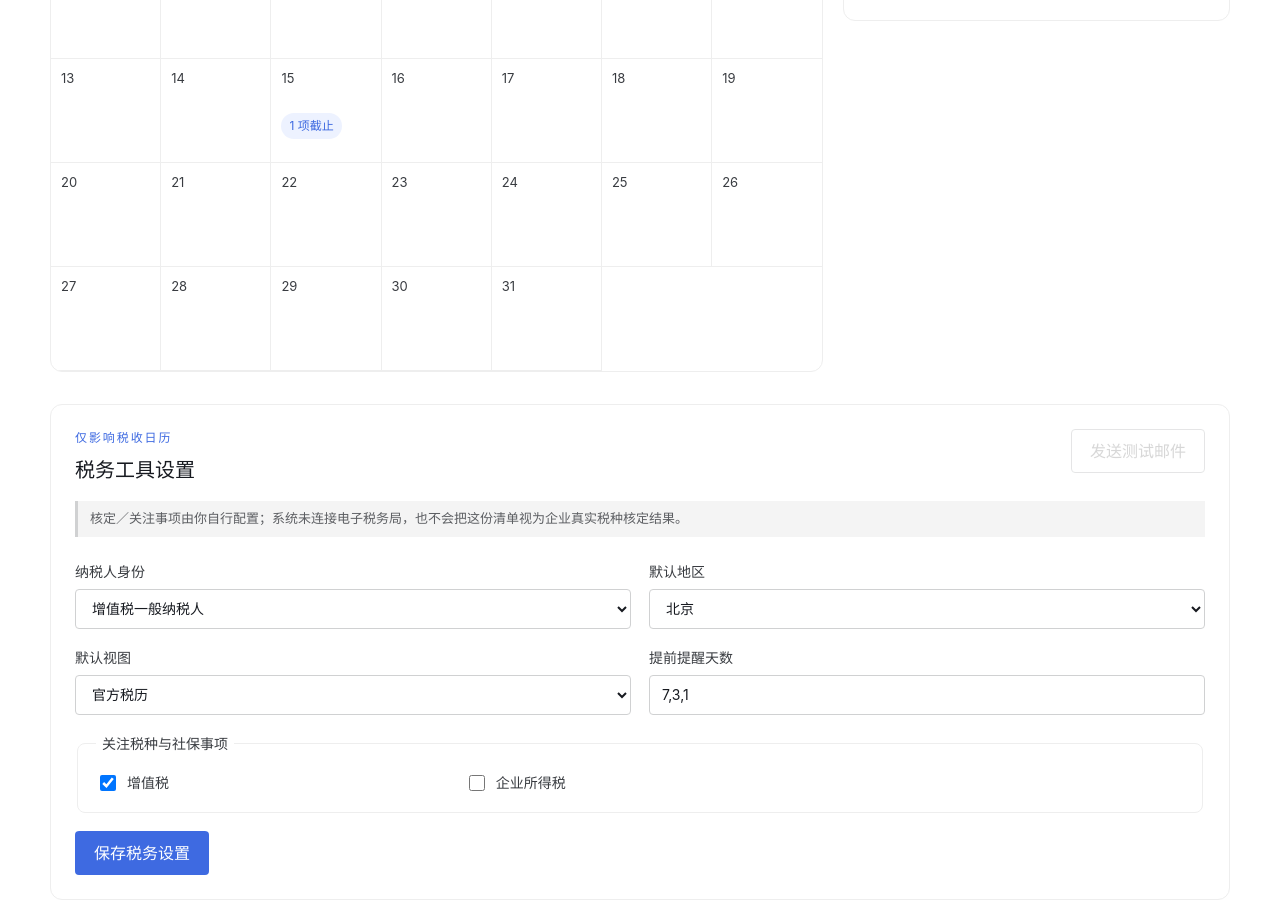
Test case: filters blank reminder tokens and adopts the normalized server value
(page scrolled)
Replace the text in the field labelled "提前提醒天数" with "7, ,3,". click: (927,694)
box: [649,674,1205,714]
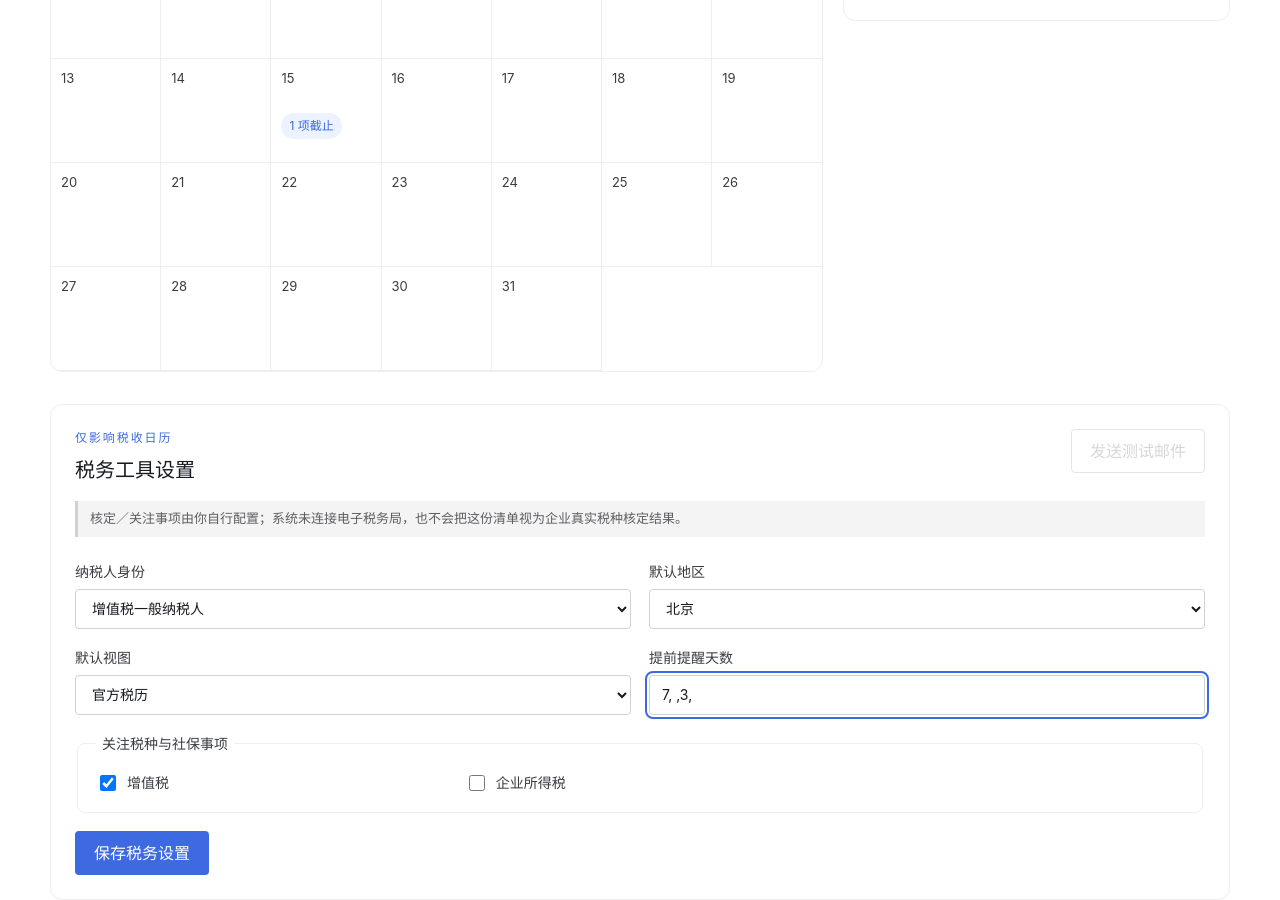
Click the button "保存税务设置". click: (142,852)
box: [75,830,209,874]
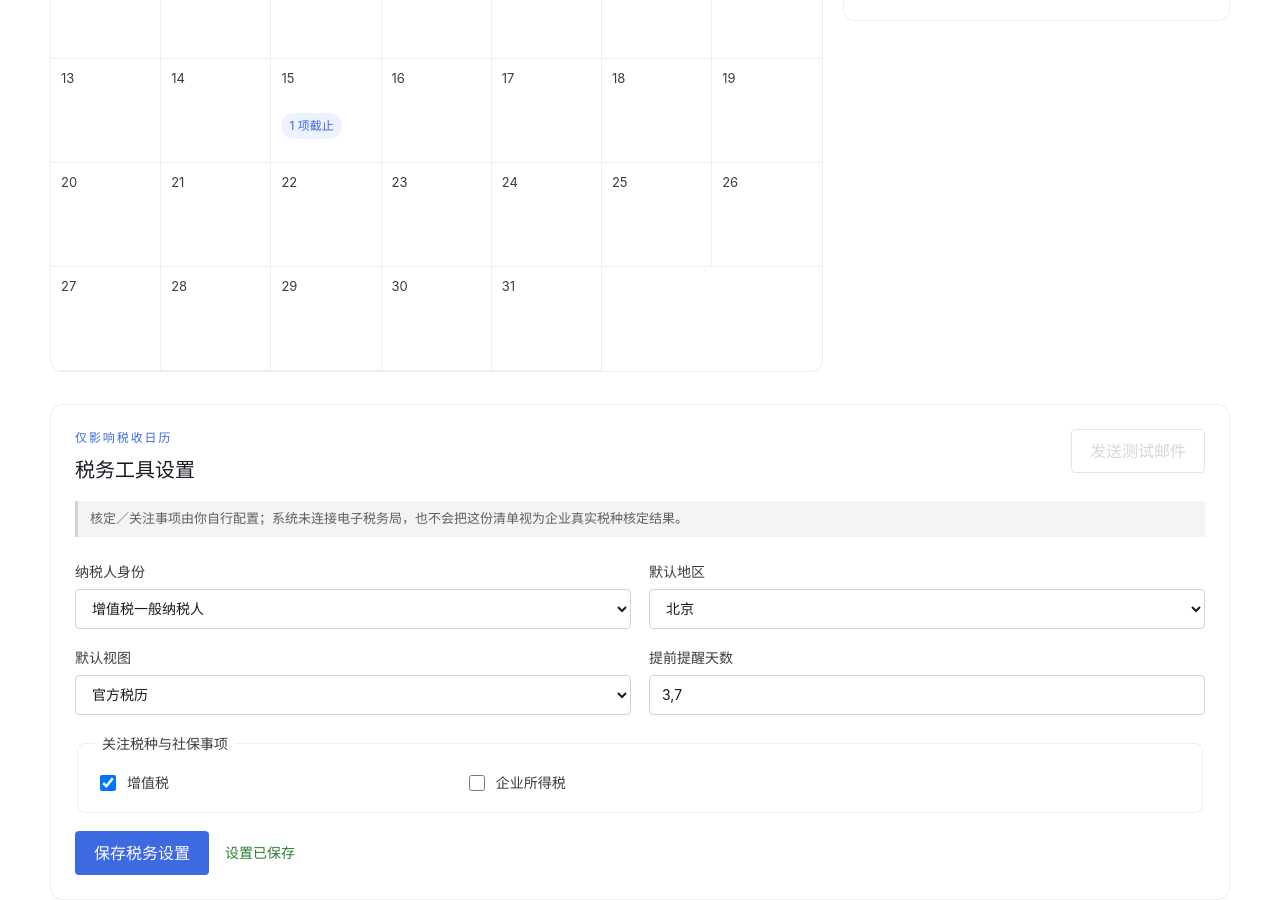
Expected: the text "设置已保存" is shown, [225,842,295,863]
Expected: the field labelled "提前提醒天数" holds "3,7", [649,674,1205,714]
